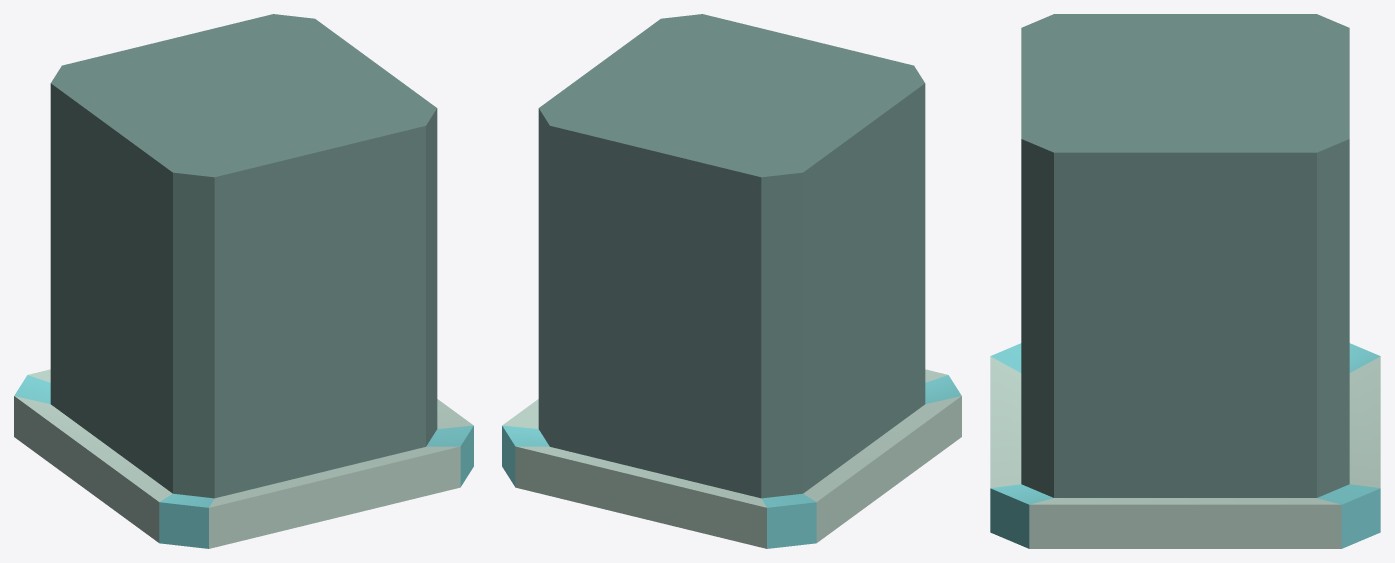
The model's file is Tile_Platform_obstacle_wall.fbx.
3 views of the same model, side by side, from view 1: azimuth 30°, elevation 25°; view 2: azimuth 150°, elevation 25°; view 3: azimuth 270°, elevation 25° (orthographic). The views are drawn at different scales.
Visible parts, largest first — view 1: Tile_platform; view 2: Tile_platform; view 3: Tile_platform.
Part boxes in pixels (x1=…): Tile_platform: x1=14, y1=14, x2=473, y2=548; Tile_platform: x1=502, y1=14, x2=961, y2=548; Tile_platform: x1=990, y1=14, x2=1380, y2=548.
Size of the model in its own units: 8.2 by 8.88 by 8.2.
